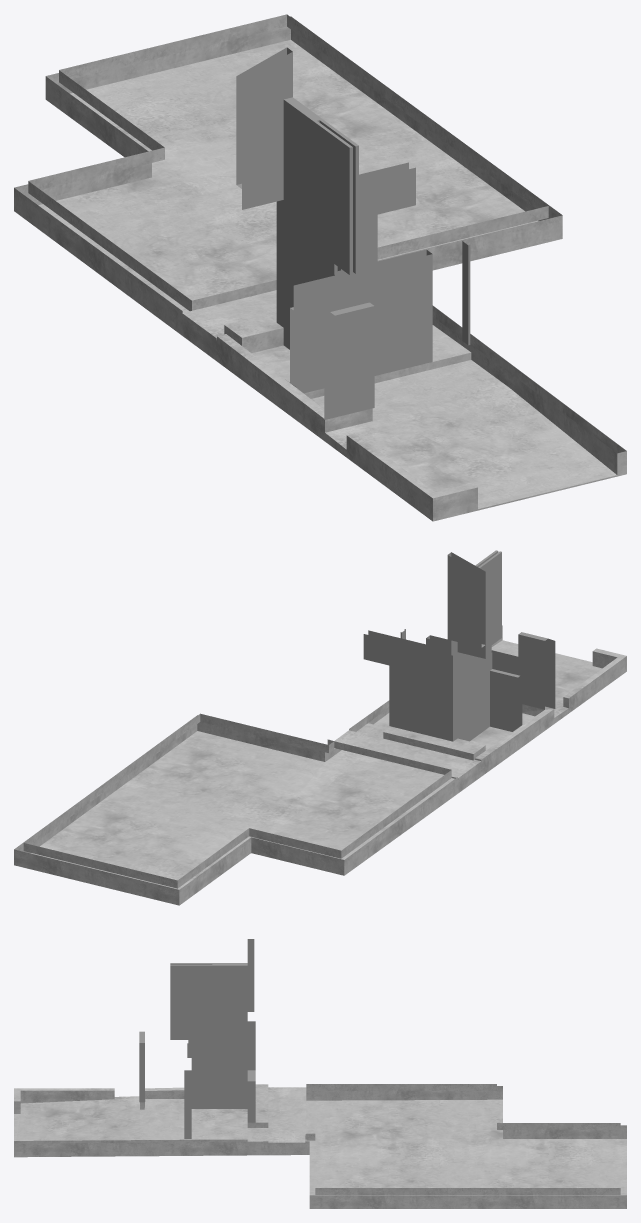
Rendered from floor nnnnnn.fbx.
3 views of the same model, one above another, from view 1: azimuth 30°, elevation 25°; view 2: azimuth 150°, elevation 25°; view 3: azimuth 270°, elevation 25° (orthographic). The views are drawn at different scales.
Visible parts, largest first — view 1: Group_001, Object606447, Object606449; view 2: Group_001, Object606447, Object606449; view 3: Group_001, Object606447, Object606449.
Boxes of the visible parts, box(x1,y1,x2,y2) form: Group_001: box(14, 14, 626, 521); Object606447: box(236, 47, 415, 349); Object606449: box(290, 240, 470, 419); Group_001: box(14, 625, 626, 905); Object606447: box(363, 550, 501, 741); Object606449: box(400, 629, 555, 731); Group_001: box(14, 1084, 626, 1208); Object606447: box(170, 939, 255, 1122); Object606449: box(139, 1031, 191, 1138).
Bounding box in the file's own units: 7580 × 5818 × 17935.
Materials: 2 (1 with a texture image).
